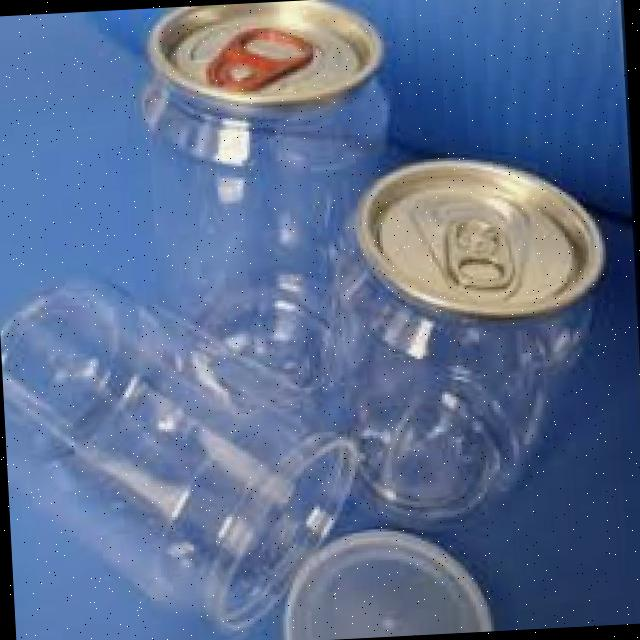bottle: (0, 268, 366, 640), (296, 157, 620, 533), (134, 0, 407, 407)
